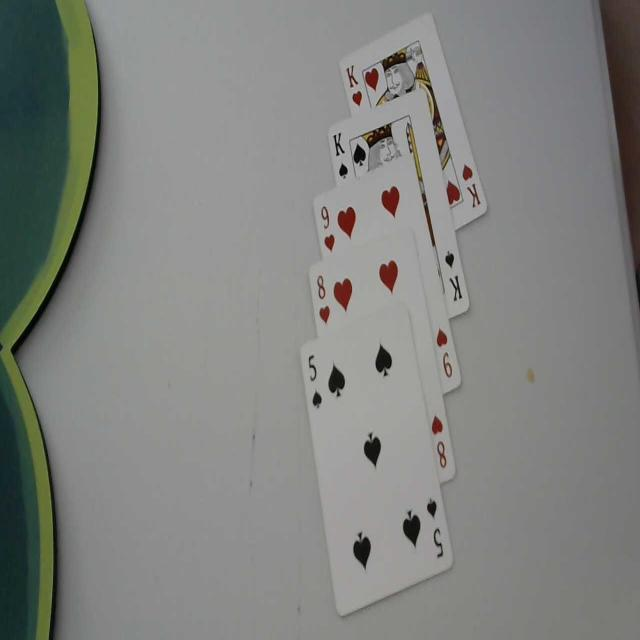5S: (425, 492, 445, 559), (306, 348, 324, 412)
8H: (430, 406, 448, 470), (314, 269, 332, 329)
9H: (433, 320, 458, 387), (318, 204, 336, 252)
KH: (458, 158, 482, 208), (345, 57, 367, 109)
KS: (442, 242, 464, 306), (329, 128, 352, 186)
